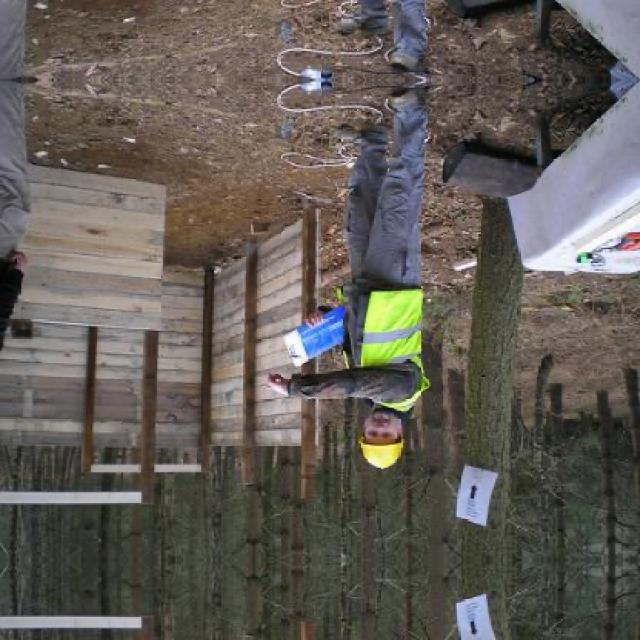con casco: (291, 375, 430, 485)
